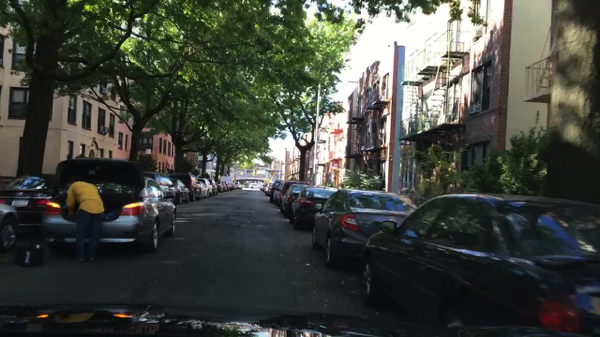car: (358, 193, 599, 337), (40, 158, 177, 254), (310, 191, 415, 266), (0, 175, 64, 236), (290, 187, 337, 230), (142, 171, 179, 204), (279, 184, 314, 218), (0, 201, 20, 257), (277, 179, 307, 210), (168, 173, 201, 199), (170, 179, 192, 203), (269, 179, 281, 200), (194, 182, 208, 198), (198, 179, 210, 196), (207, 180, 217, 195), (264, 183, 274, 195), (211, 182, 222, 190), (216, 181, 225, 190), (249, 183, 259, 191), (260, 183, 268, 191), (224, 182, 231, 190), (232, 182, 237, 190), (239, 183, 243, 189)
person: (59, 175, 103, 264)
